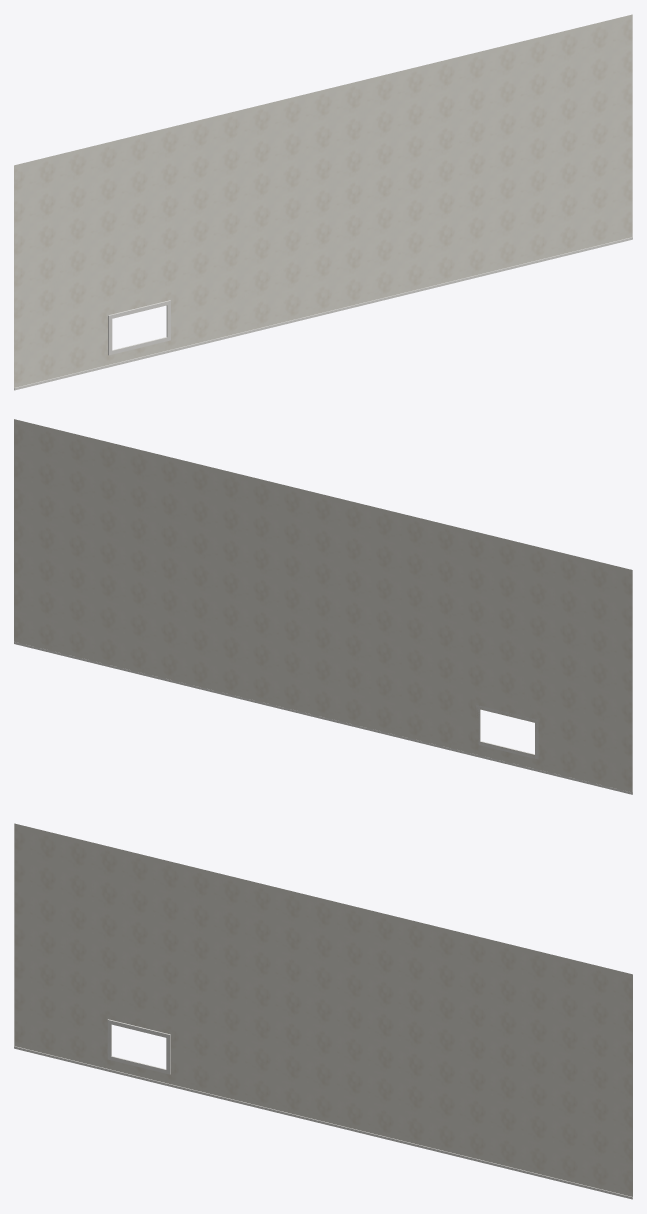
3 views of the same model, one above another, from view 1: azimuth 30°, elevation 25°; view 2: azimuth 150°, elevation 25°; view 3: azimuth 330°, elevation 25° (orthographic).
Visible parts, largest first — view 1: jx_wm_40_c511445c; view 2: jx_wm_40_c511445c; view 3: jx_wm_40_c511445c.
Boxes of the visible parts, bbox=[...] form: jx_wm_40_c511445c: bbox=[14, 14, 632, 390]; jx_wm_40_c511445c: bbox=[14, 419, 632, 794]; jx_wm_40_c511445c: bbox=[14, 823, 632, 1199].
Size of the model in its own units: 40.3 by 14 by 0.086.
Materials: 2 (2 with a texture image).
